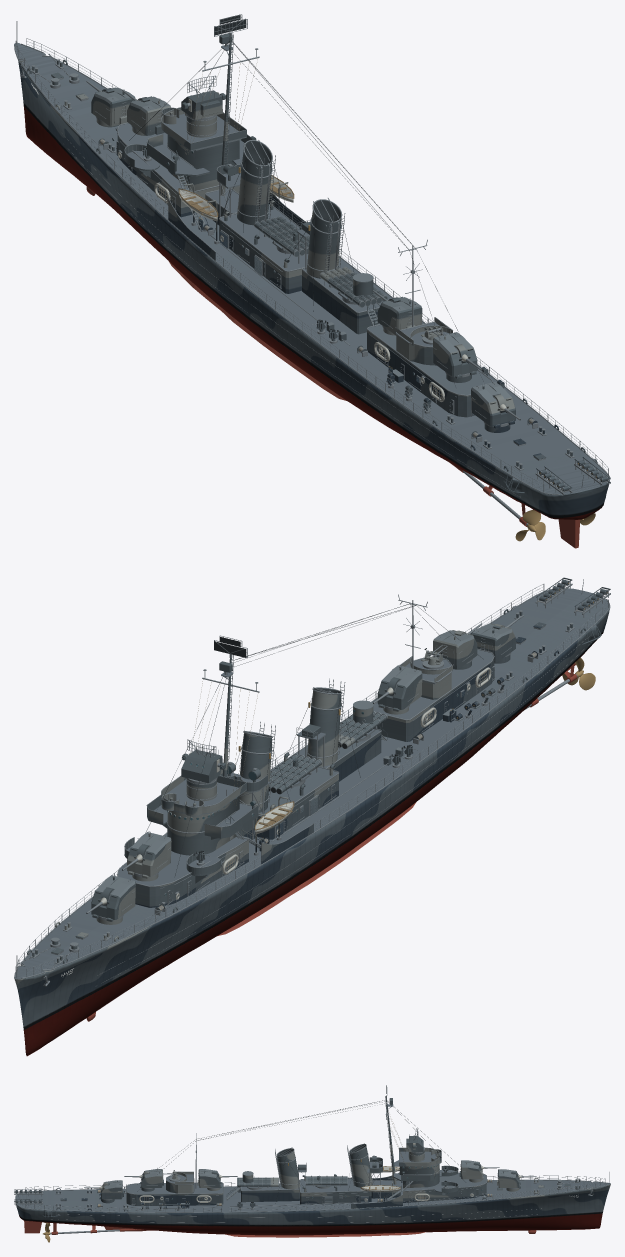
File: fletcher.glb
3 renders of one model, top to bottom at view 1: azimuth 30°, elevation 25°; view 2: azimuth 150°, elevation 25°; view 3: azimuth 270°, elevation 25°, orthographic. The views are drawn at different scales.
Visible parts, largest first — view 1: hull.envelope, deck.mesh, bridge.mesh, aft-deckhouse.mesh, machinery-deckhouse.mesh, hull.mesh, aft-funnel.mesh, forward-funnel.mesh, rails.mesh, forward-deckhouse.mesh, torpedo-deckhouse.mesh, torpedo-aft.yaw.mesh (+14 smaller); view 2: hull.envelope, deck.mesh, bridge.mesh, aft-deckhouse.mesh, forward-deckhouse.mesh, hull.mesh, aft-funnel.mesh, rails.mesh, machinery-deckhouse.mesh, forward-funnel.mesh, gun-3.yaw.mesh, gun-2.yaw.mesh (+14 smaller); view 3: hull.envelope, deck.mesh, hull.mesh, bridge.mesh, aft-deckhouse.mesh, forward-deckhouse.mesh, machinery-deckhouse.mesh, rails.mesh, aft-funnel.mesh, torpedo-deckhouse.mesh, forward-funnel.mesh, torpedo-aft.yaw.mesh (+18 smaller).
Boxes of the visible parts, left/top/right/bottom form: hull.envelope: left=16, top=54, right=609, bottom=519; deck.mesh: left=14, top=42, right=610, bottom=494; bridge.mesh: left=124, top=107, right=256, bottom=231; aft-deckhouse.mesh: left=366, top=324, right=492, bottom=417; machinery-deckhouse.mesh: left=219, top=205, right=339, bottom=293; hull.mesh: left=14, top=43, right=610, bottom=497; aft-funnel.mesh: left=283, top=198, right=353, bottom=311; forward-funnel.mesh: left=214, top=140, right=290, bottom=232; rails.mesh: left=15, top=38, right=608, bottom=491; forward-deckhouse.mesh: left=108, top=122, right=239, bottom=217; torpedo-deckhouse.mesh: left=301, top=268, right=380, bottom=334; torpedo-aft.yaw.mesh: left=319, top=266, right=387, bottom=307; hull.envelope: left=14, top=608, right=609, bottom=1056; deck.mesh: left=14, top=588, right=609, bottom=979; bridge.mesh: left=124, top=775, right=265, bottom=883; aft-deckhouse.mesh: left=373, top=648, right=496, bottom=741; forward-deckhouse.mesh: left=117, top=832, right=249, bottom=907; hull.mesh: left=14, top=589, right=610, bottom=1021; aft-funnel.mesh: left=288, top=678, right=360, bottom=777; rails.mesh: left=15, top=584, right=608, bottom=976; machinery-deckhouse.mesh: left=257, top=760, right=339, bottom=839; forward-funnel.mesh: left=235, top=721, right=290, bottom=838; gun-3.yaw.mesh: left=377, top=664, right=422, bottom=711; gun-2.yaw.mesh: left=127, top=831, right=171, bottom=878; hull.envelope: left=16, top=1184, right=610, bottom=1235; deck.mesh: left=15, top=1173, right=610, bottom=1212; hull.mesh: left=18, top=1179, right=608, bottom=1237; bridge.mesh: left=383, top=1147, right=458, bottom=1201; aft-deckhouse.mesh: left=126, top=1182, right=223, bottom=1205; forward-deckhouse.mesh: left=402, top=1172, right=486, bottom=1202; machinery-deckhouse.mesh: left=299, top=1177, right=371, bottom=1204; rails.mesh: left=25, top=1175, right=605, bottom=1211; aft-funnel.mesh: left=275, top=1147, right=306, bottom=1203; torpedo-deckhouse.mesh: left=240, top=1183, right=299, bottom=1202; forward-funnel.mesh: left=347, top=1143, right=377, bottom=1196; torpedo-aft.yaw.mesh: left=237, top=1171, right=279, bottom=1188.
Bounding box in the file's own units: 12.05 × 31.21 × 115.
Materials: 18 (11 with a texture image).
